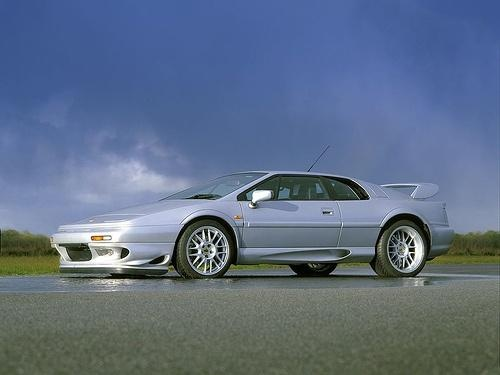car: (51, 172, 458, 280)
